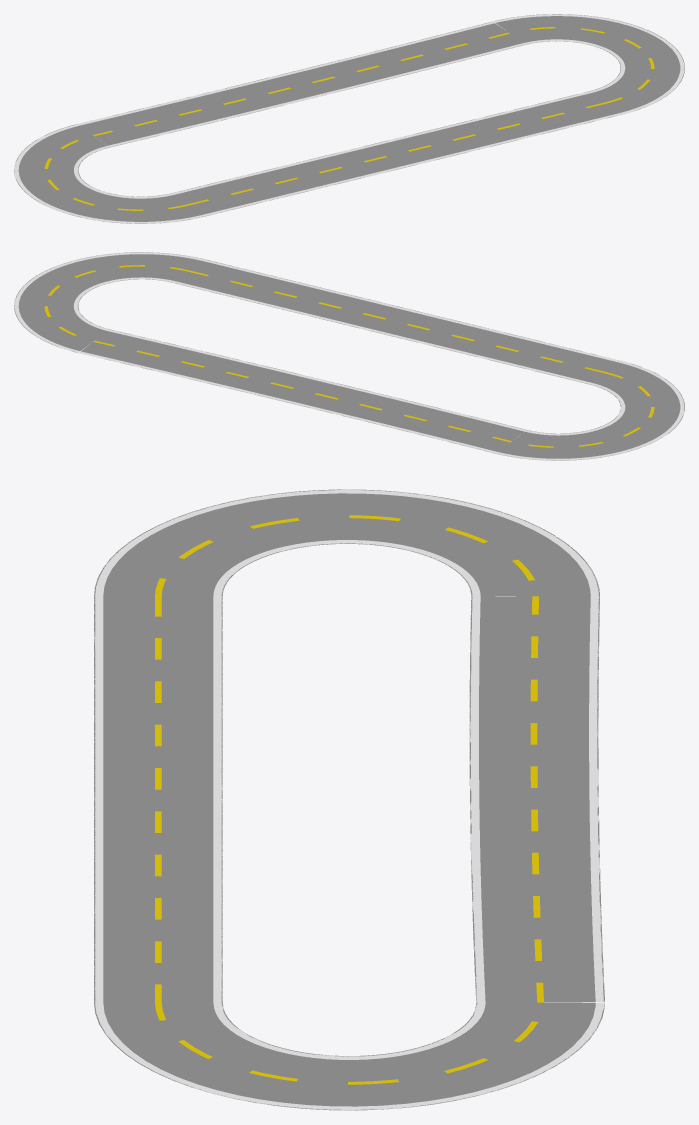
File: track2.fbx
3 views of the same model, one above another, from view 1: azimuth 30°, elevation 25°; view 2: azimuth 150°, elevation 25°; view 3: azimuth 270°, elevation 25° (orthographic). The views are drawn at different scales.
Visible parts, largest first — view 1: road_arc_19, road_straight_20, road_arc_4, road_arc_21; view 2: road_arc_19, road_straight_20, road_arc_4, road_arc_21; view 3: road_arc_19, road_straight_20, road_arc_4, road_arc_21.
Part boxes in pixels (box(x1,y1,x2,y2)): road_arc_19: box(78, 21, 525, 147); road_straight_20: box(172, 91, 620, 216); road_arc_4: box(493, 14, 684, 114); road_arc_21: box(14, 124, 203, 223); road_arc_19: box(79, 329, 526, 453); road_straight_20: box(174, 259, 621, 384); road_arc_4: box(14, 252, 205, 352); road_arc_21: box(496, 361, 684, 460); road_arc_19: box(469, 596, 604, 1002); road_straight_20: box(94, 596, 222, 1002); road_arc_4: box(94, 1002, 604, 1110); road_arc_21: box(94, 489, 599, 596).
Bounding box in the file's own units: 8607 × 0.000909 × 2994.
